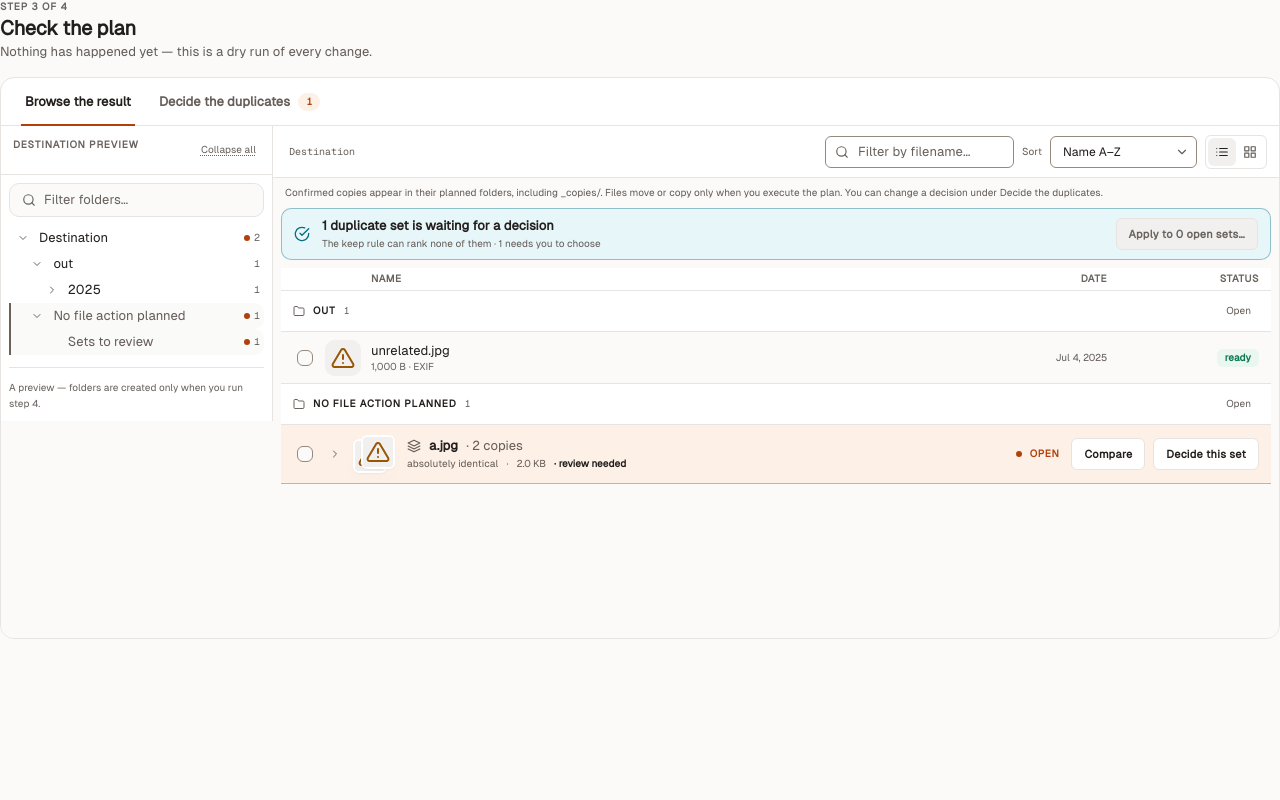
Test: comparing never fails silently › compares a set against its own members even when the pane hides one
The width and height of the screenshot is (1280, 800).
expect the checkbox named "unrelated.jpg" is shown: met, box x1=297 y1=350 x2=313 y2=366
Type "a.jpg" into the search field.
click(920, 152); type("a.jpg")  # box x1=825 y1=136 x2=1014 y2=168
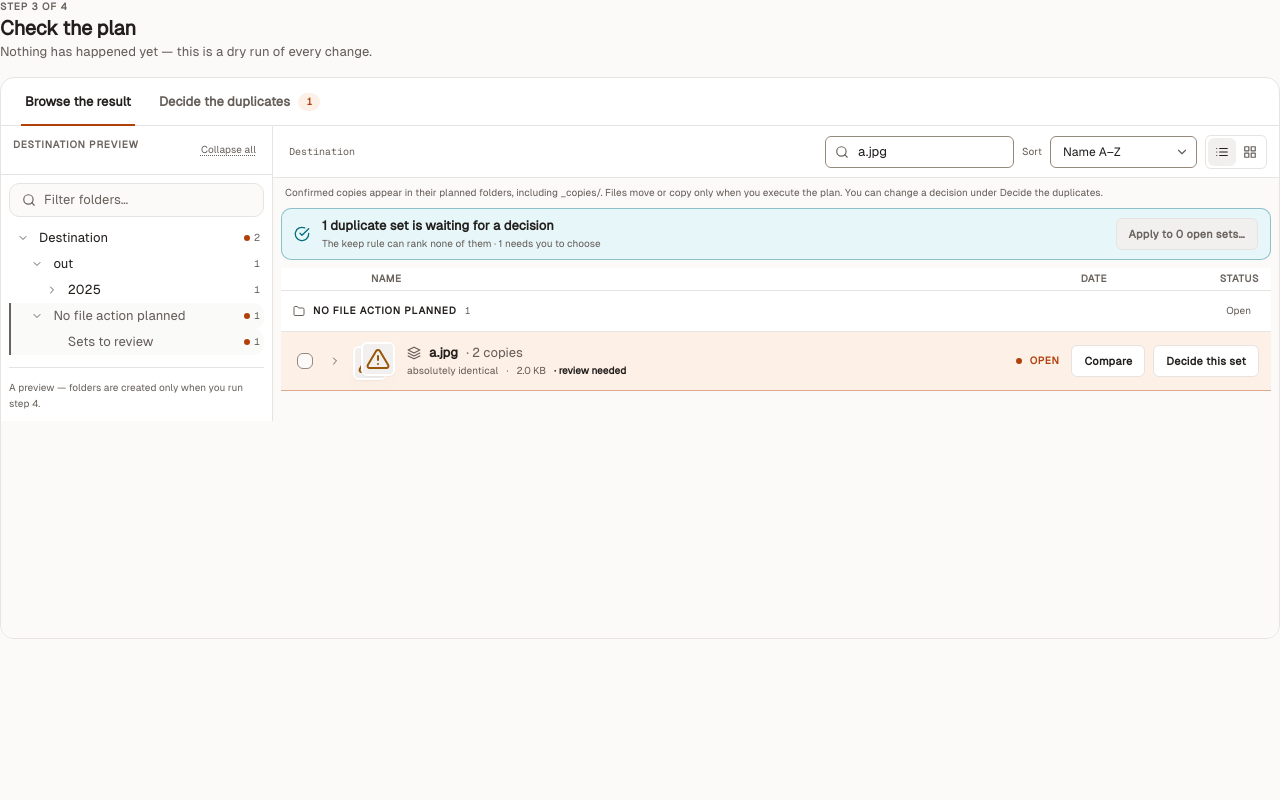
Click the tab "Decide the duplicates 1".
click(240, 102)  # box x1=147 y1=78 x2=332 y2=125
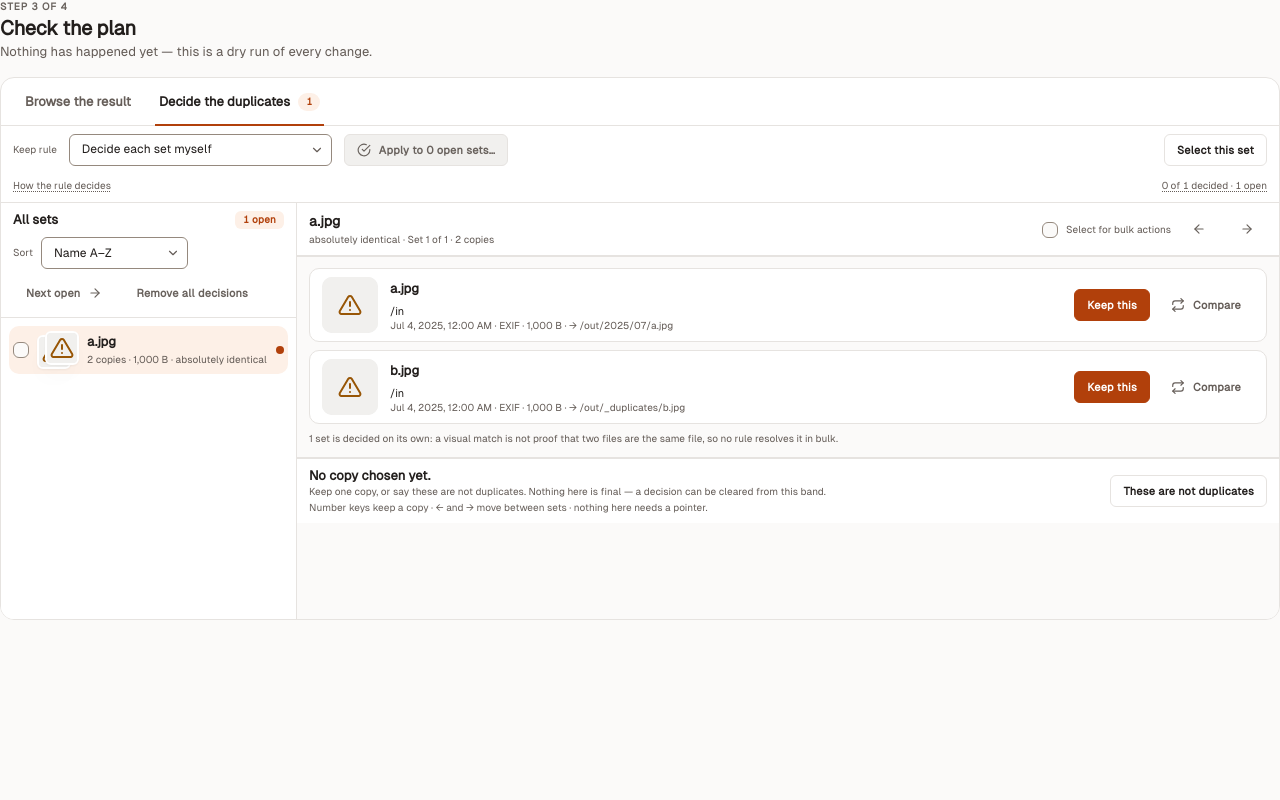
Click the 1st button "Compare".
click(1206, 305)  # box x1=1158 y1=289 x2=1254 y2=321
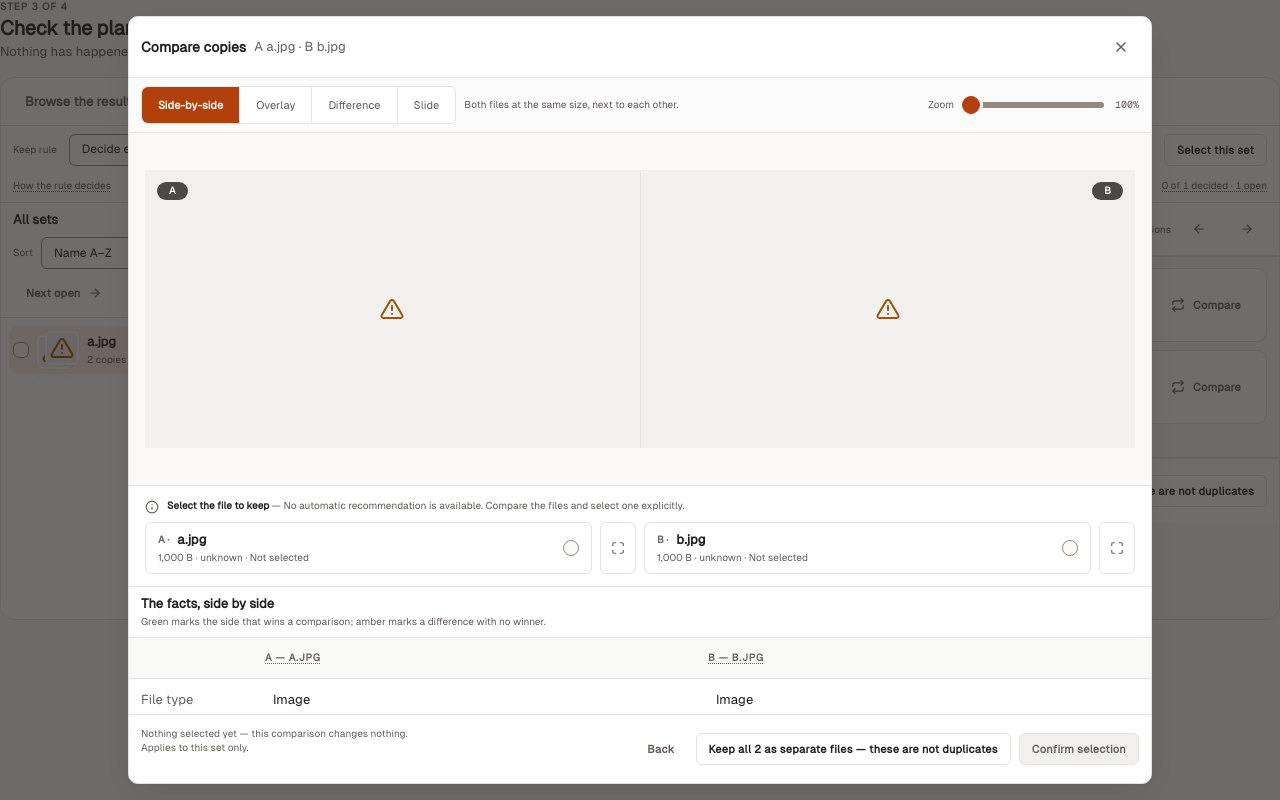
expect the text "Applies to this set only." is shown: met, box x1=141 y1=742 x2=249 y2=753
